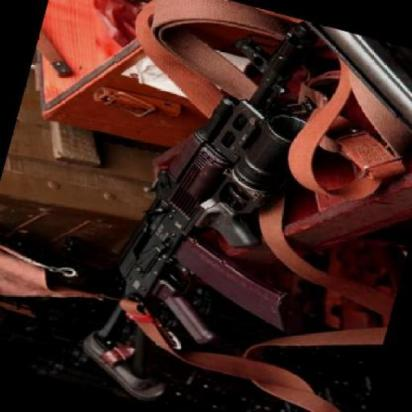Gun: (87, 22, 320, 393)
